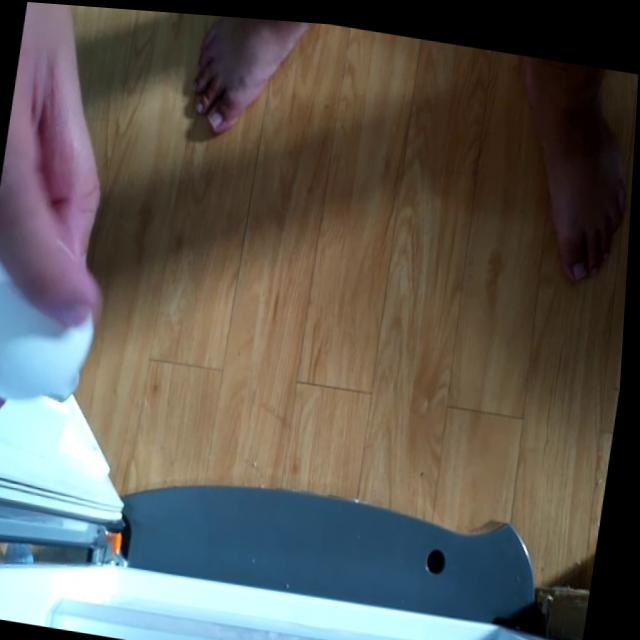egg: (0, 247, 103, 413)
